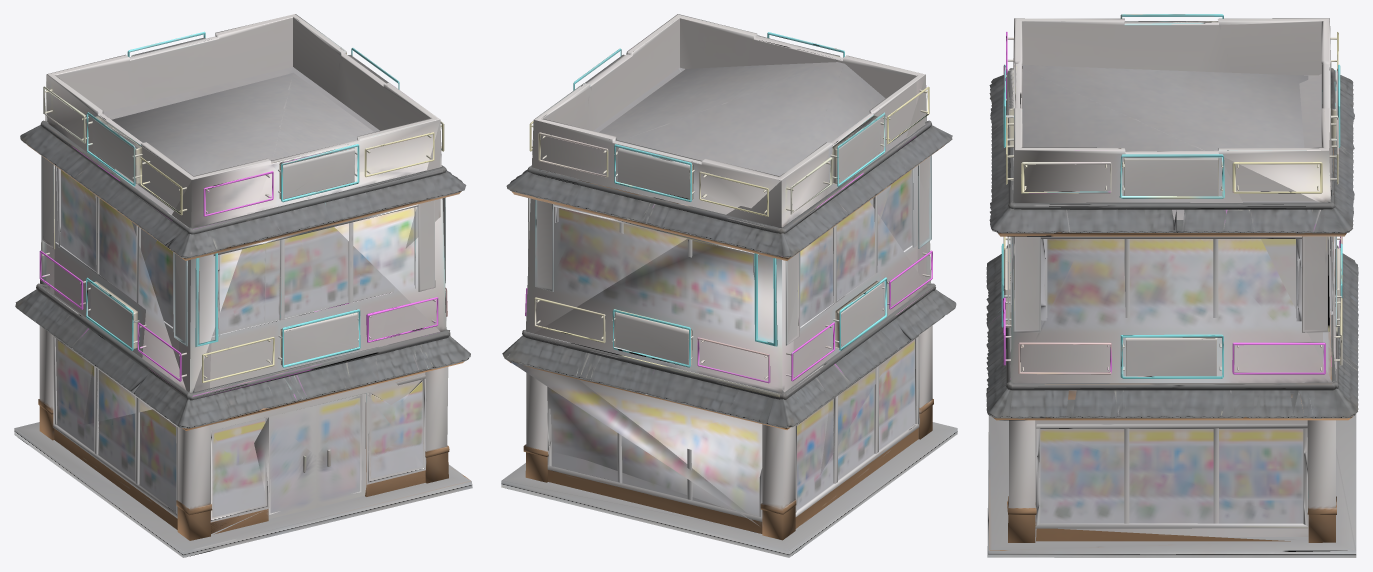
Rendered from arcade.glb.
3 renders of one model, left to right at view 1: azimuth 30°, elevation 25°; view 2: azimuth 150°, elevation 25°; view 3: azimuth 270°, elevation 25°, orthographic. The views are drawn at different scales.
Parts seen in each view (by area): view 1: geometry_0; view 2: geometry_0; view 3: geometry_0.
Boxes of the visible parts, bbox=[...] form: geometry_0: bbox=[14, 14, 472, 557]; geometry_0: bbox=[501, 14, 957, 557]; geometry_0: bbox=[986, 14, 1358, 557].
Size of the model in its own units: 0.8052 by 0.9521 by 0.8081.
Materials: 1 (1 with a texture image).
